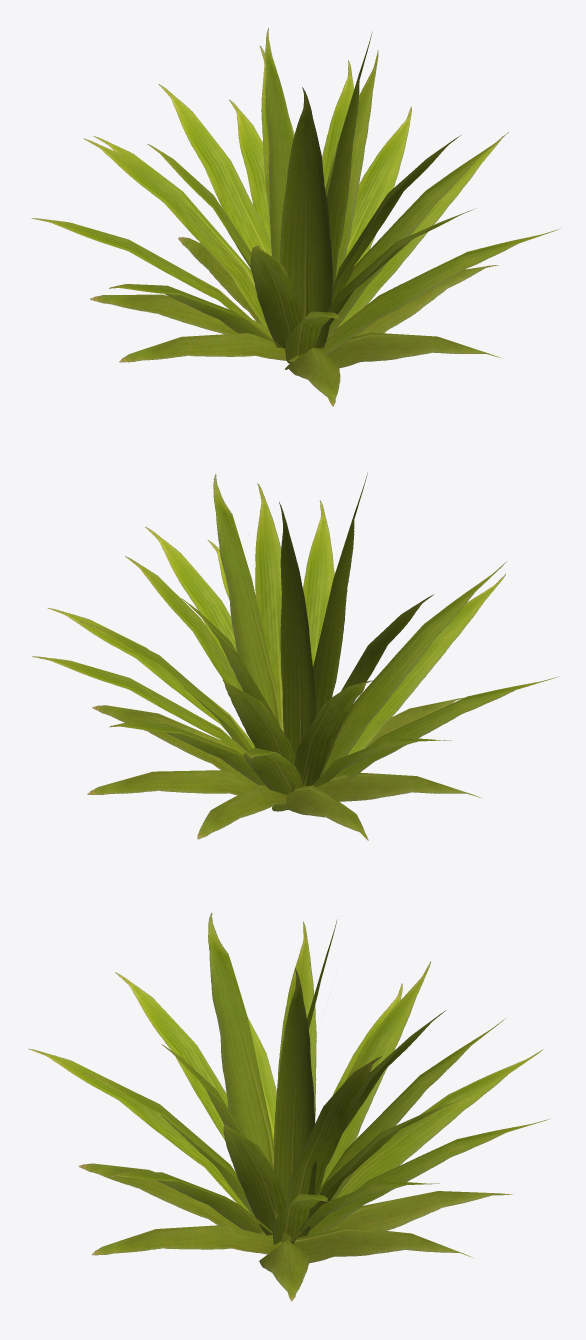
File: plant1.FBX
3 views of the same model, one above another, from view 1: azimuth 30°, elevation 25°; view 2: azimuth 150°, elevation 25°; view 3: azimuth 270°, elevation 25° (orthographic). The views are drawn at different scales.
Parts seen in each view (by area): view 1: Box001; view 2: Box001; view 3: Box001.
Part boxes in pixels (<box>): Box001: <box>31,28,560,406</box>; Box001: <box>32,472,558,840</box>; Box001: <box>28,912,550,1301</box>.
Bounding box in the file's own units: 4.89 × 3.19 × 4.69.
